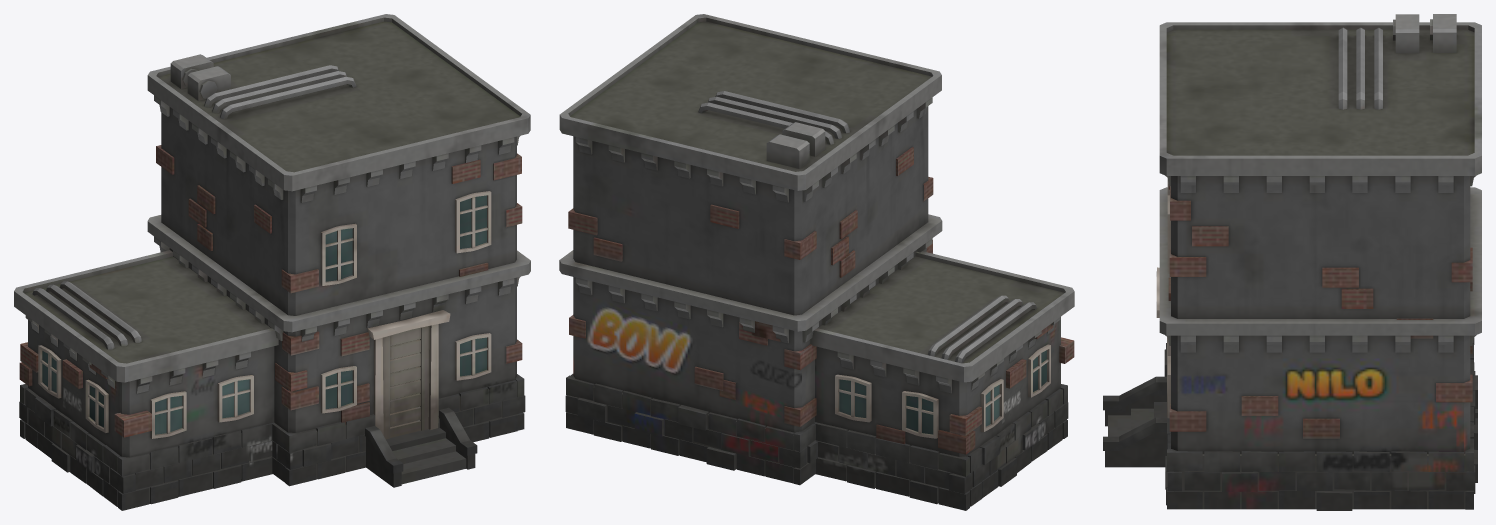
Rendered from building_2Story_Sidehouse.glb.
3 views of the same model, side by side, from view 1: azimuth 30°, elevation 25°; view 2: azimuth 150°, elevation 25°; view 3: azimuth 270°, elevation 25° (orthographic). The views are drawn at different scales.
Parts seen in each view (by area): view 1: 2Story_Sidehouse_low; view 2: 2Story_Sidehouse_low; view 3: 2Story_Sidehouse_low.
Part boxes in pixels (box(x1,y1,x2,y2)): 2Story_Sidehouse_low: box(14, 14, 530, 510); 2Story_Sidehouse_low: box(559, 14, 1074, 510); 2Story_Sidehouse_low: box(1103, 14, 1481, 510).
Bounding box in the file's own units: 3.47 × 2.76 × 2.53.
2 materials, 2 textured.
